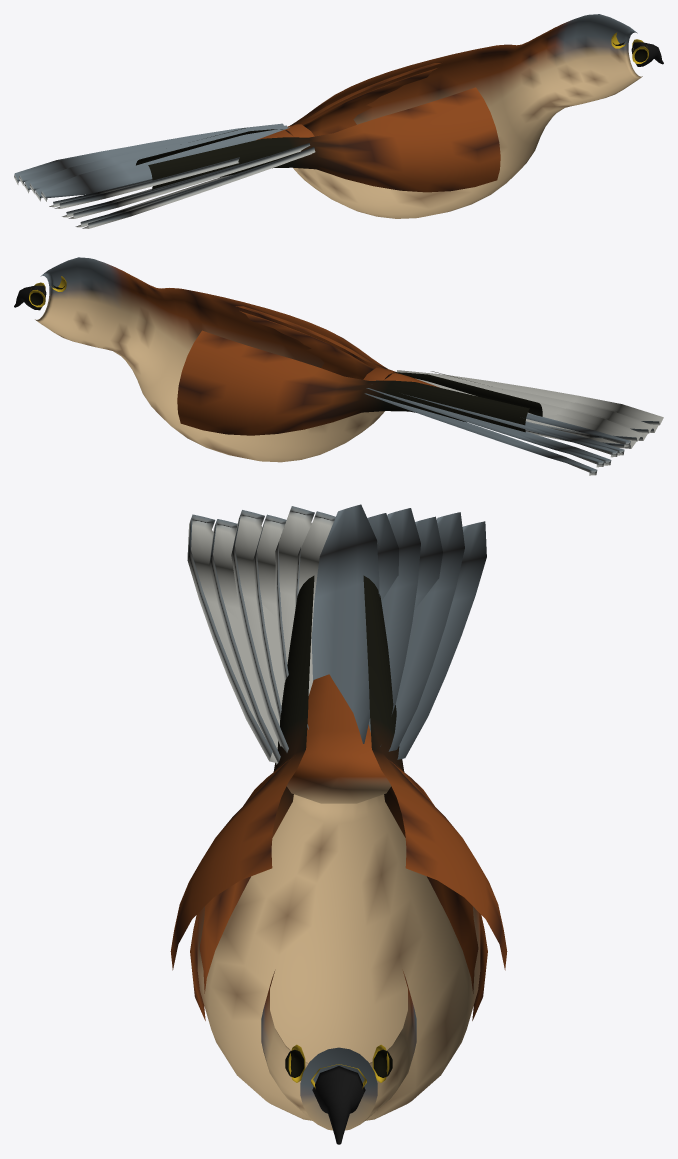
The model's file is SM_Bird_kestrel_closed.glb.
3 renders of one model, top to bottom at view 1: azimuth 30°, elevation 25°; view 2: azimuth 150°, elevation 25°; view 3: azimuth 270°, elevation 25°, orthographic. The views are drawn at different scales.
Parts seen in each view (by area): view 1: SM_Bird_kestrel_closed; view 2: SM_Bird_kestrel_closed; view 3: SM_Bird_kestrel_closed.
Part boxes in pixels (left/top/right/bottom): SM_Bird_kestrel_closed: left=14, top=14, right=663, bottom=228; SM_Bird_kestrel_closed: left=14, top=257, right=663, bottom=475; SM_Bird_kestrel_closed: left=170, top=504, right=507, bottom=1144.
Bounding box in the file's own units: 0.379 × 0.0892 × 0.0896.
